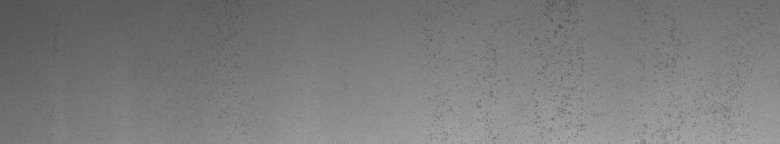ib: (476, 4, 585, 134)
